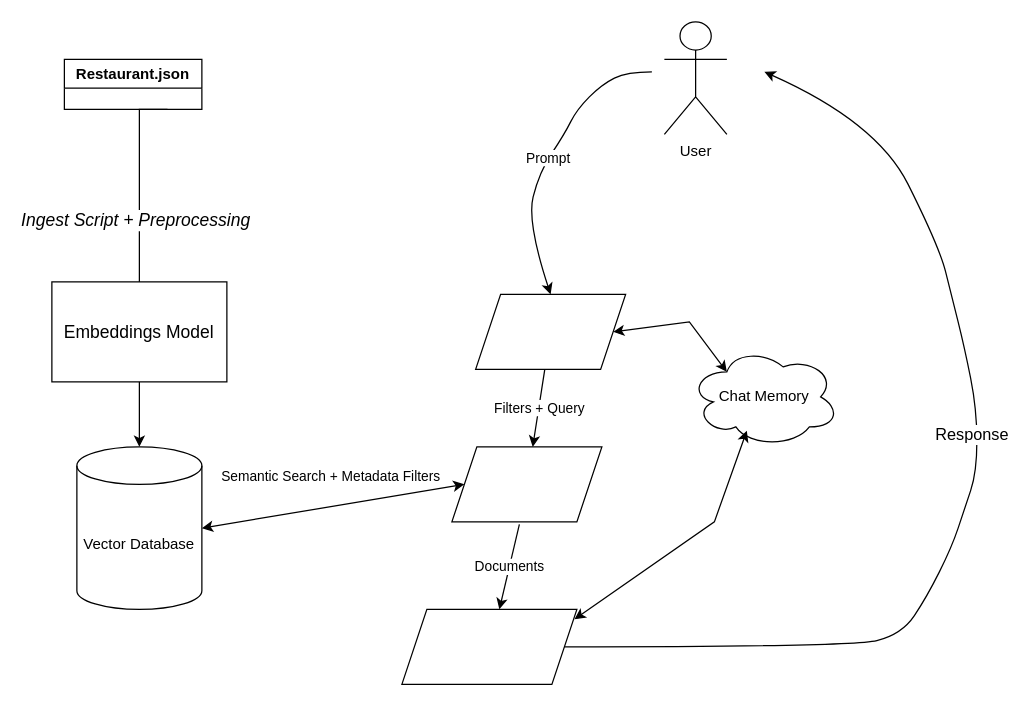
The diagram is 1031 pixels wide and 706 high, and some of its shapes have lost their labels. Here are the shapes that lost their labels. From the top down, the box of each, then its label:
(474, 293, 626, 369): Agent 1 Query Extractor
(451, 446, 602, 522): Agent 2 Retriever
(401, 608, 577, 684): Agent 3 Response Generator
